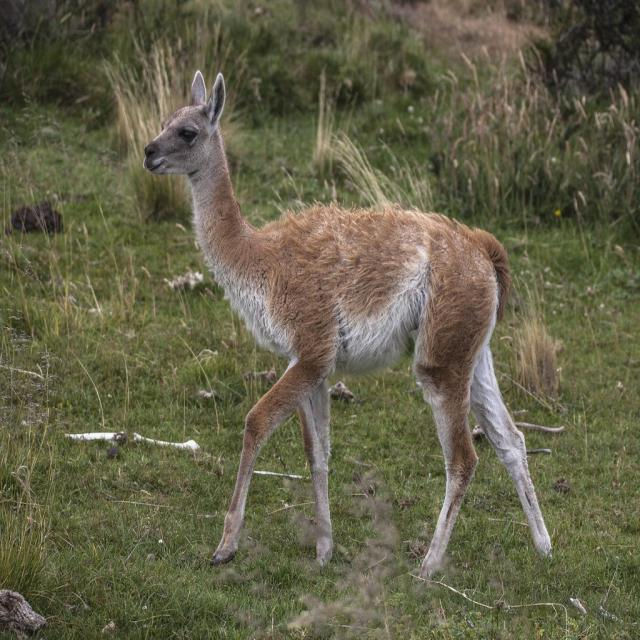Deer: (142, 68, 552, 578)
